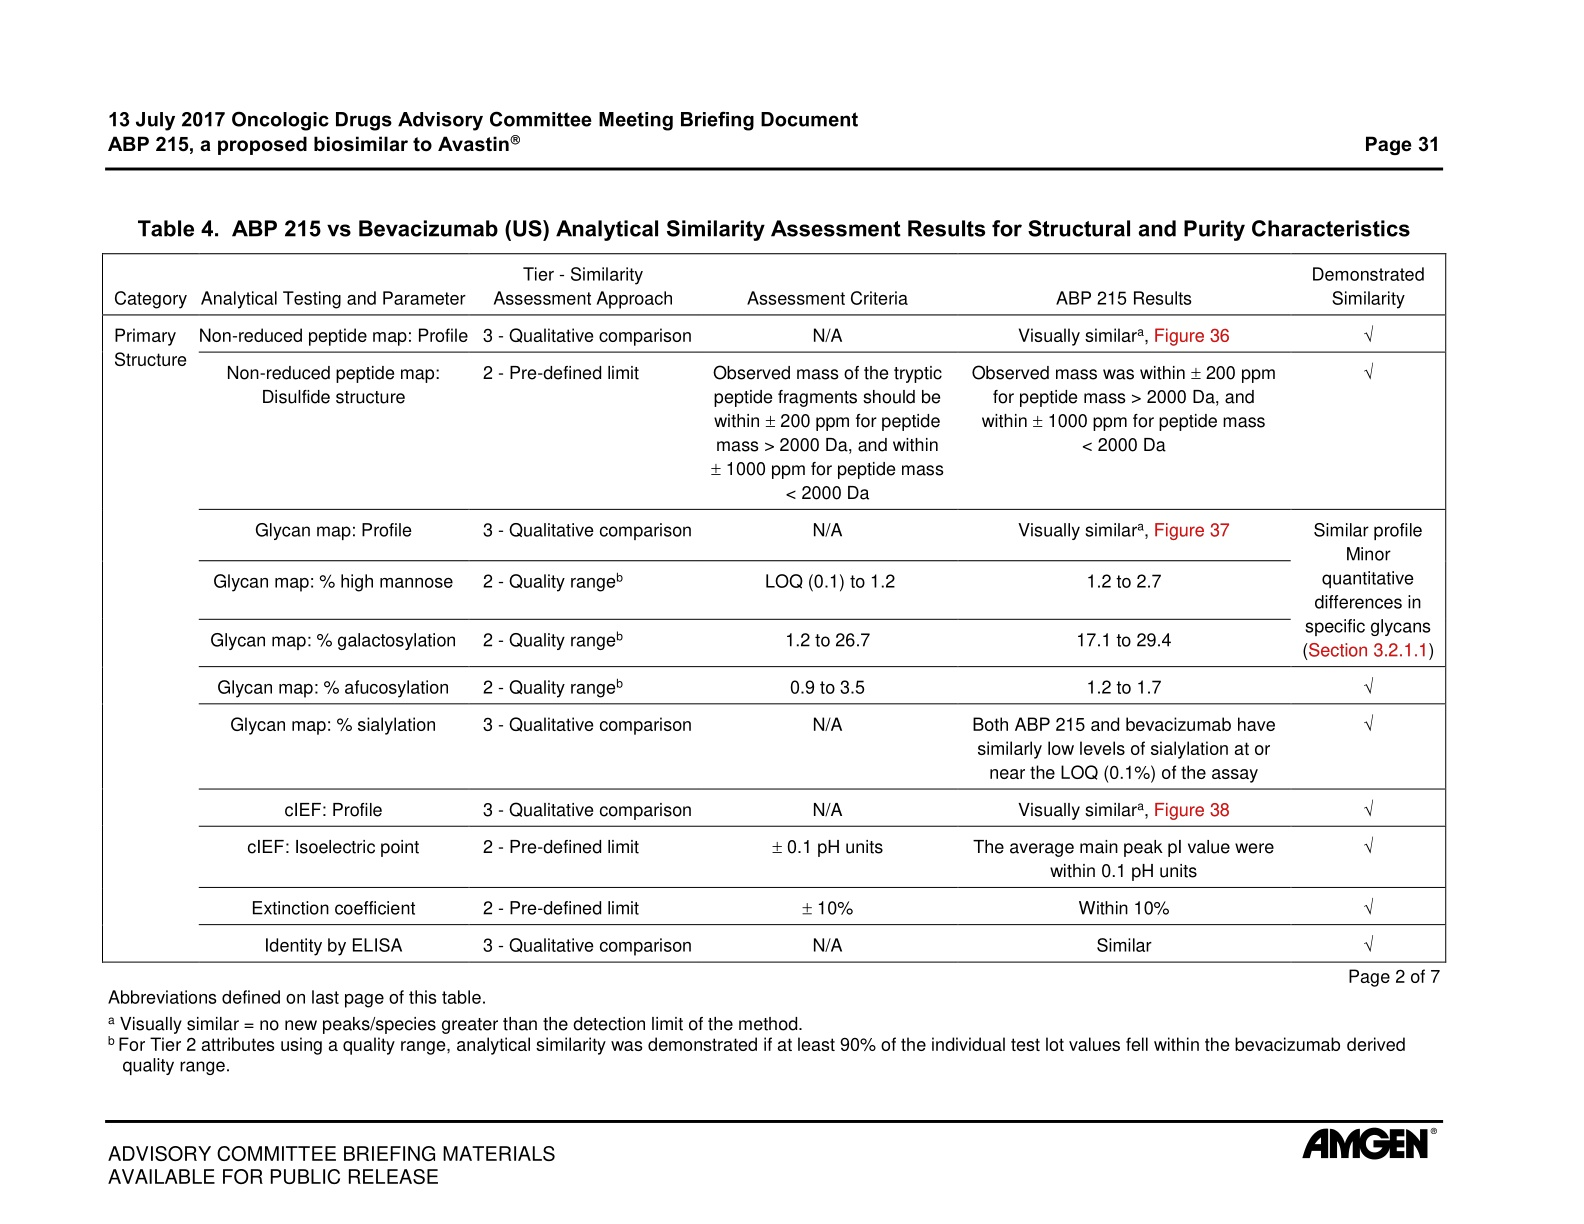partial_lined_merged_cells: (100, 249, 1449, 966)
